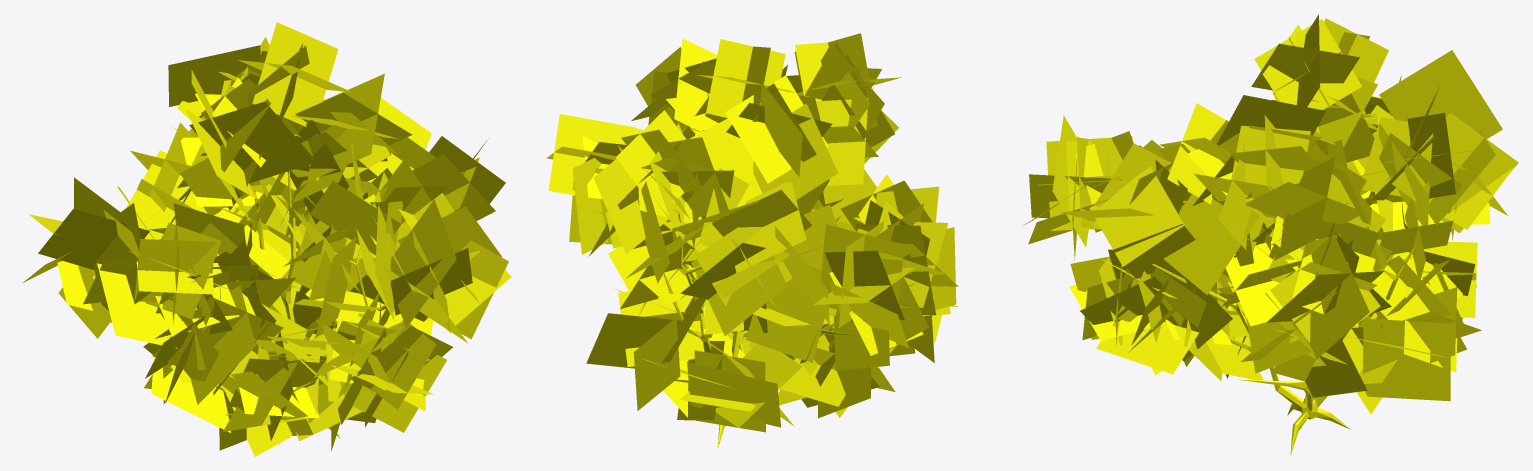
File: bush_wolfberry.glb
The picture shows the model from 3 angles, left to right: view 1: azimuth 30°, elevation 25°; view 2: azimuth 150°, elevation 25°; view 3: azimuth 270°, elevation 25°; orthographic projection.
Parts seen in each view (by area): view 1: Wolfberry_LOD0, SM_Wolfberry_LOD0; view 2: Wolfberry_LOD0, SM_Wolfberry_LOD0; view 3: Wolfberry_LOD0, SM_Wolfberry_LOD0.
Part boxes in pixels (x1,y1,x2,y2): Wolfberry_LOD0: [23, 22, 511, 456]; SM_Wolfberry_LOD0: [216, 171, 386, 445]; Wolfberry_LOD0: [546, 33, 958, 432]; SM_Wolfberry_LOD0: [594, 180, 855, 449]; Wolfberry_LOD0: [1023, 14, 1518, 413]; SM_Wolfberry_LOD0: [1152, 198, 1415, 456].
Bounding box in the file's own units: 2.55 × 2.39 × 2.65.
